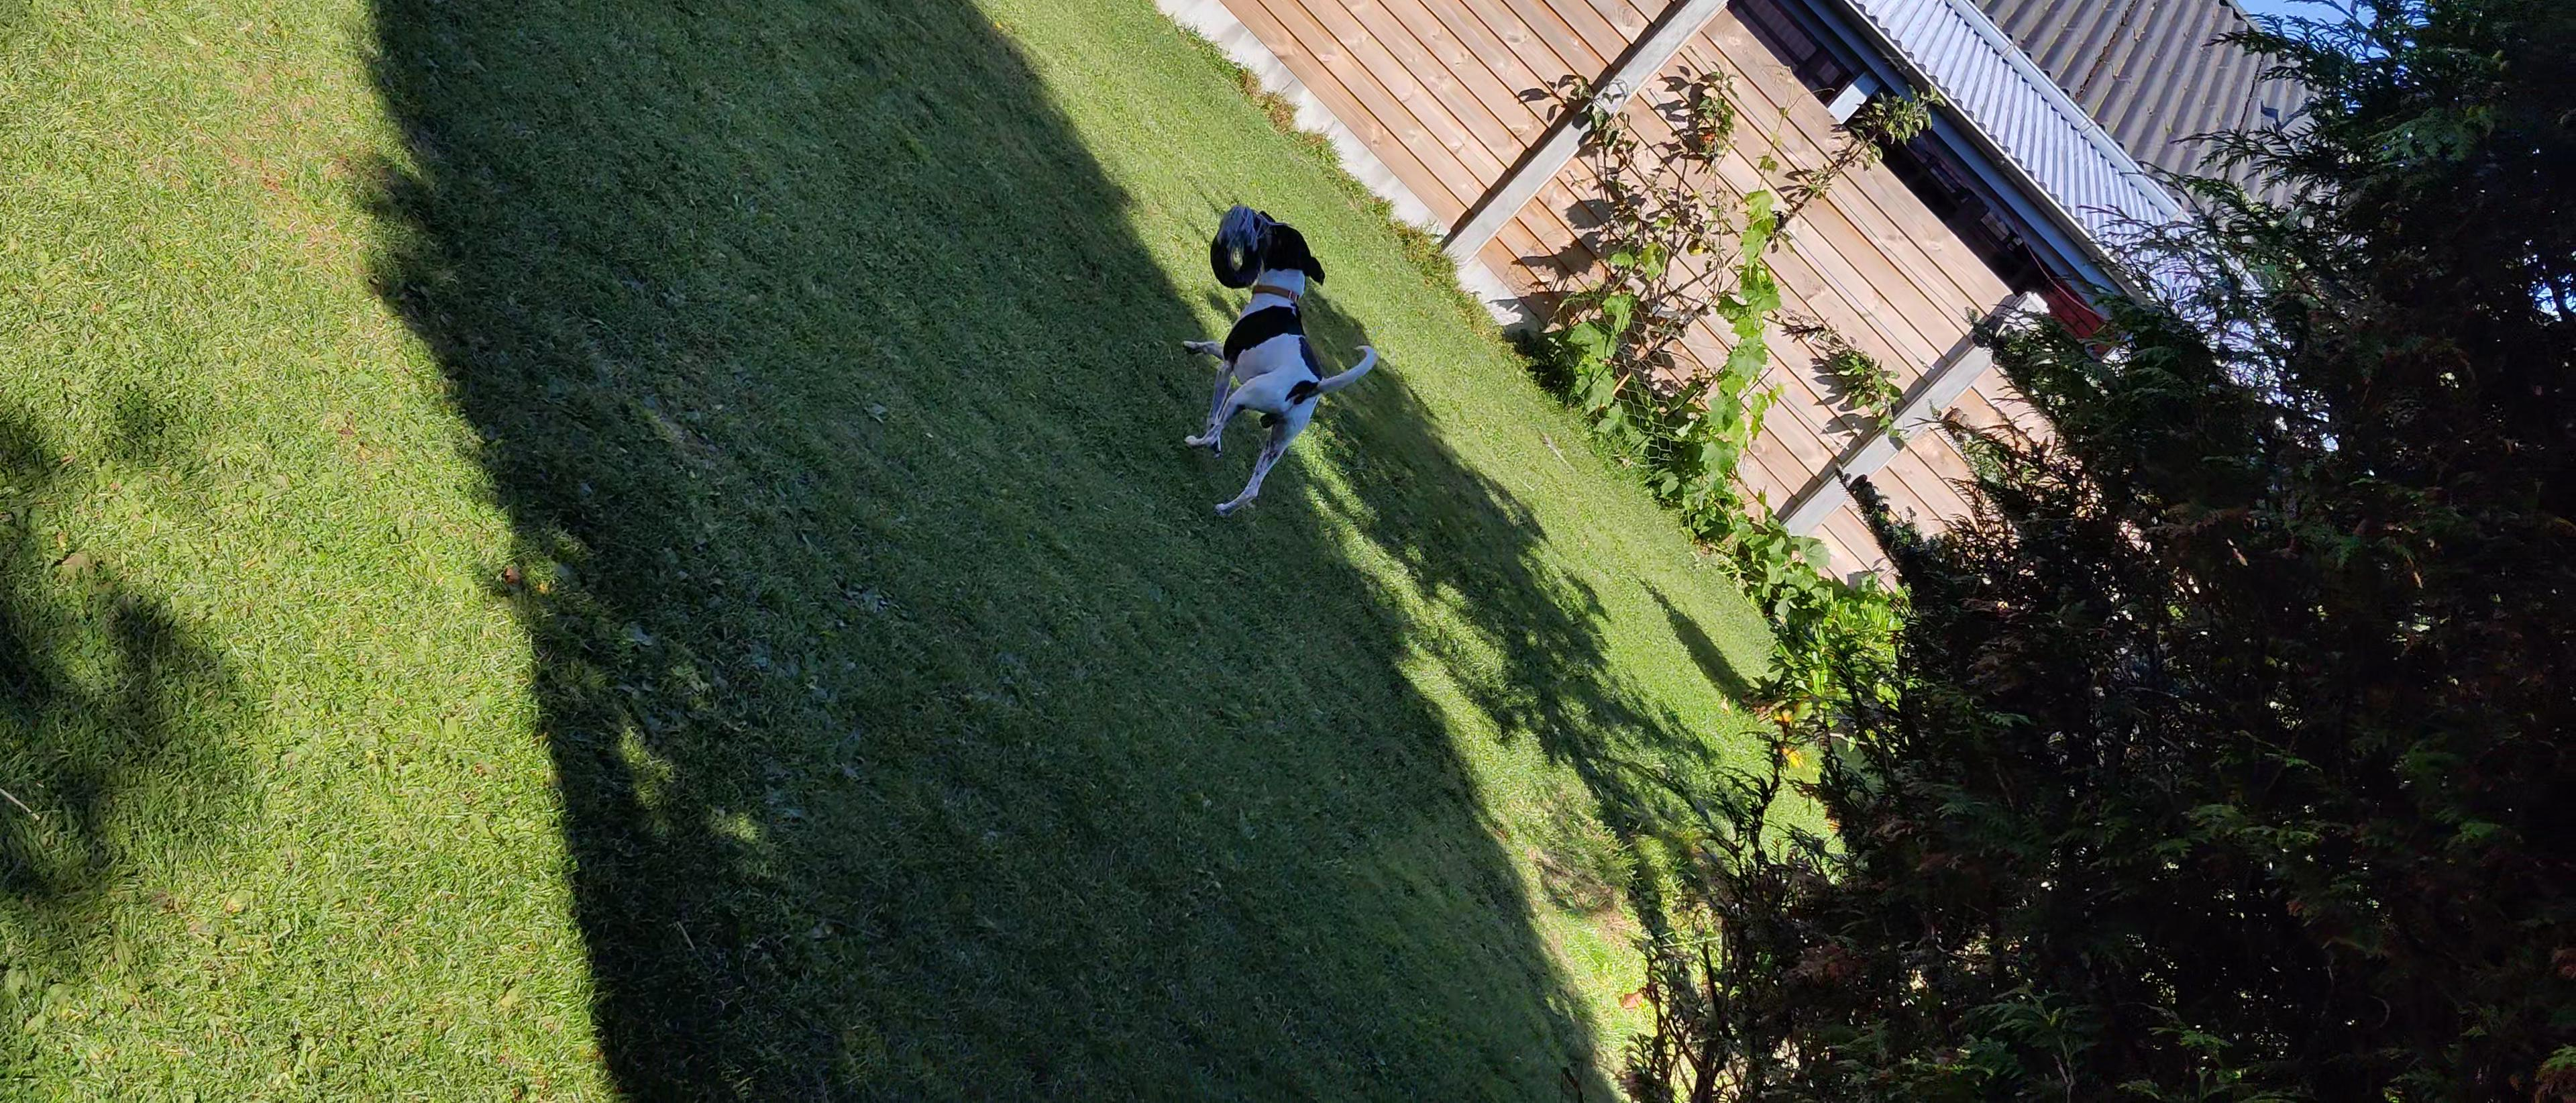Dog: (1176, 204, 1385, 519)
